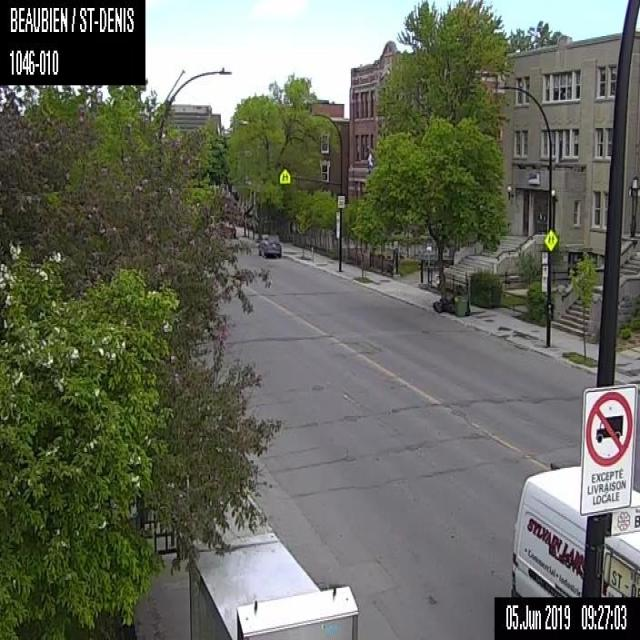vehicle: (510, 464, 639, 638), (258, 233, 281, 258)
